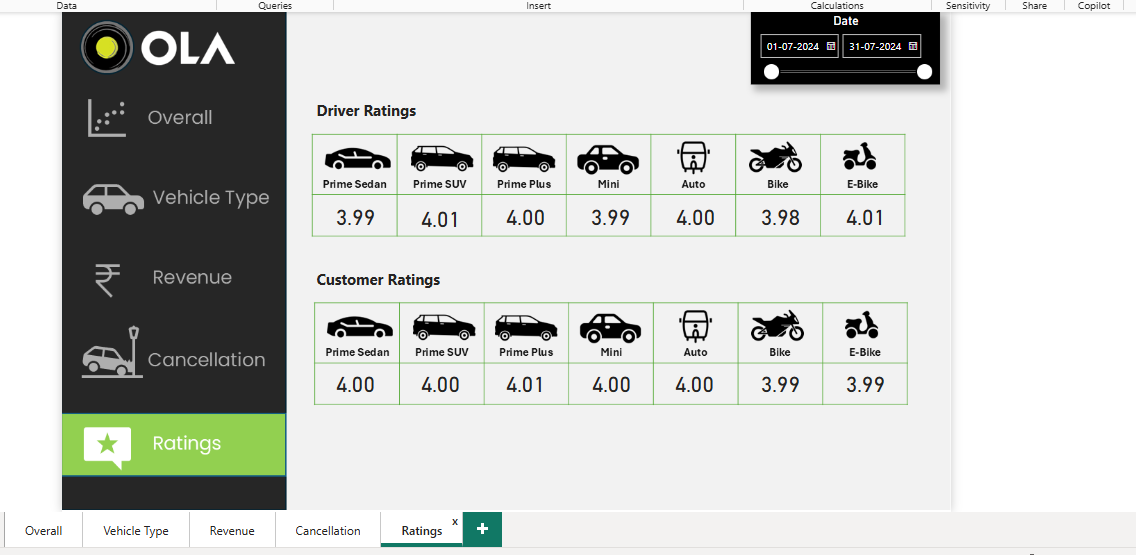

What the dashboard file says about the page in this screenshot:
{"tool":"powerbi","page":{"name":"Ratings","canvas":[1280,720],"ordinal":4},"visuals":[{"type":"actionButton","box":[0,220.3,324,92.2],"z":0},{"type":"actionButton","box":[0,339.8,324,92.2],"z":1000},{"type":"actionButton","box":[0,445,324,92.2],"z":2000},{"type":"actionButton","box":[0,113.3,323.3,91.7],"z":3000},{"type":"card","fields":{"Values":["Avg(July.Driver_Ratings)"]},"box":[361.2,263.8,122.5,58.8],"z":4000},{"type":"card","fields":{"Values":["Avg(July.Driver_Ratings)"]},"box":[483.8,266.2,122.5,58.8],"z":5000},{"type":"card","fields":{"Values":["Avg(July.Driver_Ratings)"]},"box":[606.2,263.8,122.5,58.8],"z":6000},{"type":"card","fields":{"Values":["Avg(July.Driver_Ratings)"]},"box":[728.8,263.8,122.5,58.8],"z":7000},{"type":"card","fields":{"Values":["Avg(July.Driver_Ratings)"]},"box":[851.2,263.8,122.5,58.8],"z":8000},{"type":"card","fields":{"Values":["Avg(July.Driver_Ratings)"]},"box":[973.8,263.8,122.5,58.8],"z":9000},{"type":"card","fields":{"Values":["Avg(July.Driver_Ratings)"]},"box":[1096.2,263.8,122.5,58.8],"z":10000},{"type":"card","fields":{"Values":["Avg(July.Customer_Rating)"]},"box":[362,506,122,58],"z":11000},{"type":"card","fields":{"Values":["Avg(July.Customer_Rating)"]},"box":[484,506,122,58],"z":12000},{"type":"card","fields":{"Values":["Avg(July.Customer_Rating)"]},"box":[606,506,122,58],"z":13000},{"type":"card","fields":{"Values":["Avg(July.Customer_Rating)"]},"box":[730,506,122,58],"z":14000},{"type":"card","fields":{"Values":["Avg(July.Customer_Rating)"]},"box":[850,506,122,58],"z":15000},{"type":"card","fields":{"Values":["Avg(July.Customer_Rating)"]},"box":[974,506,122,58],"z":16000},{"type":"card","fields":{"Values":["Avg(July.Customer_Rating)"]},"box":[1096,506,122,58],"z":17000},{"type":"textbox","box":[362,122,164,38],"z":18000},{"type":"textbox","box":[362,366,204,38],"z":19000},{"type":"slicer","title":"Date","fields":{"Values":["July.Date"]},"box":[992,0,272,104],"z":20000}]}

Visuals, with their boxes on the page's 1280x720 design canvas (x1, y1, x2, y2). These are canvas units, not pixel positions in the 1136x555 screenshot, which may show the page scaled, cropped or inside an application window:
actionButton: (left=0, top=220, right=324, bottom=312)
actionButton: (left=0, top=340, right=324, bottom=432)
actionButton: (left=0, top=445, right=324, bottom=537)
actionButton: (left=0, top=113, right=323, bottom=205)
card - Avg(July.Driver_Ratings): (left=361, top=264, right=484, bottom=323)
card - Avg(July.Driver_Ratings): (left=484, top=266, right=606, bottom=325)
card - Avg(July.Driver_Ratings): (left=606, top=264, right=729, bottom=323)
card - Avg(July.Driver_Ratings): (left=729, top=264, right=851, bottom=323)
card - Avg(July.Driver_Ratings): (left=851, top=264, right=974, bottom=323)
card - Avg(July.Driver_Ratings): (left=974, top=264, right=1096, bottom=323)
card - Avg(July.Driver_Ratings): (left=1096, top=264, right=1219, bottom=323)
card - Avg(July.Customer_Rating): (left=362, top=506, right=484, bottom=564)
card - Avg(July.Customer_Rating): (left=484, top=506, right=606, bottom=564)
card - Avg(July.Customer_Rating): (left=606, top=506, right=728, bottom=564)
card - Avg(July.Customer_Rating): (left=730, top=506, right=852, bottom=564)
card - Avg(July.Customer_Rating): (left=850, top=506, right=972, bottom=564)
card - Avg(July.Customer_Rating): (left=974, top=506, right=1096, bottom=564)
card - Avg(July.Customer_Rating): (left=1096, top=506, right=1218, bottom=564)
textbox: (left=362, top=122, right=526, bottom=160)
textbox: (left=362, top=366, right=566, bottom=404)
"Date" slicer: (left=992, top=0, right=1264, bottom=104)
